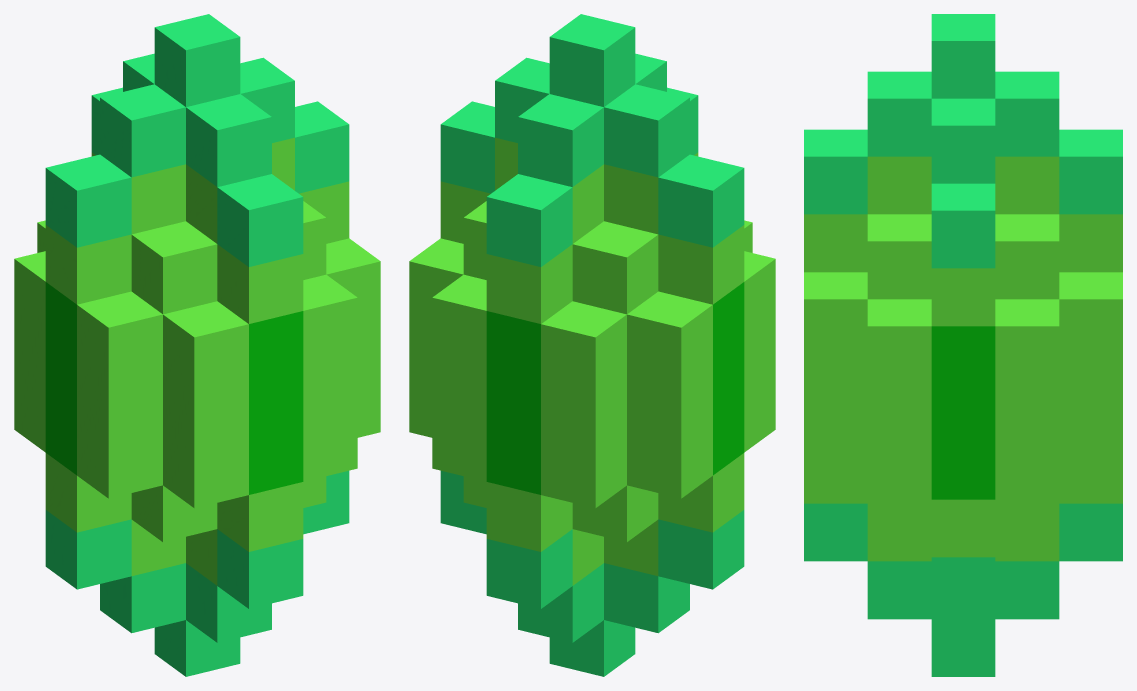
File: gem.fbx
3 views of the same model, side by side, from view 1: azimuth 30°, elevation 25°; view 2: azimuth 150°, elevation 25°; view 3: azimuth 270°, elevation 25° (orthographic).
Parts seen in each view (by area): view 1: Untitled; view 2: Untitled; view 3: Untitled.
Part boxes in pixels (x1=…): Untitled: x1=14, y1=14, x2=380, y2=676; Untitled: x1=409, y1=14, x2=775, y2=676; Untitled: x1=804, y1=14, x2=1122, y2=676.
Size of the model in its own units: 50 by 110 by 50.
1 material, 1 textured.
